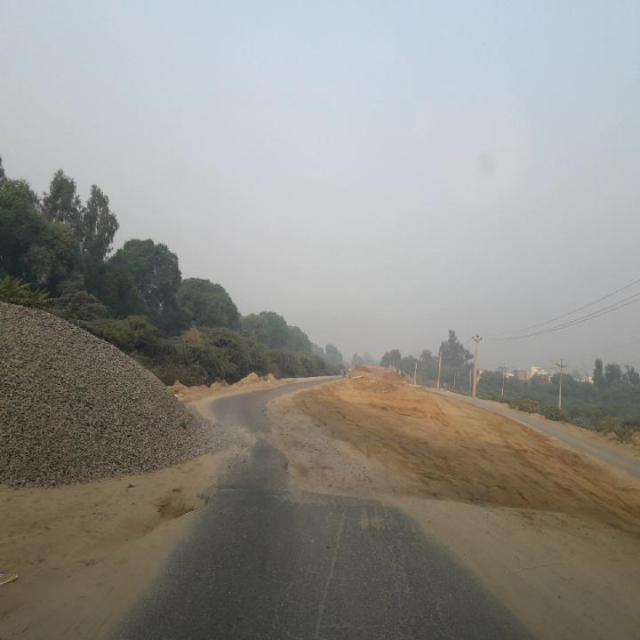Surface Erosion: (206, 272, 584, 578)
